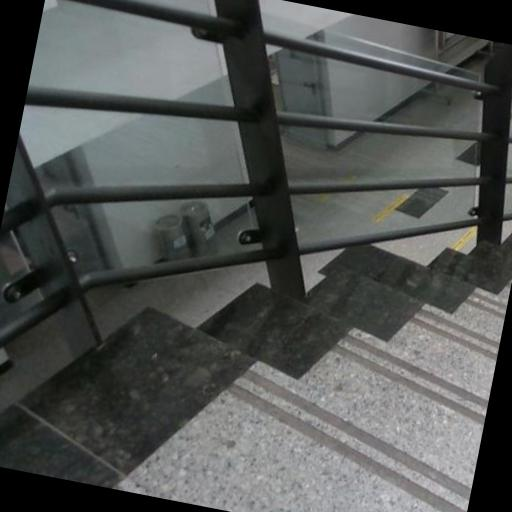stairs: (0, 238, 511, 511)
